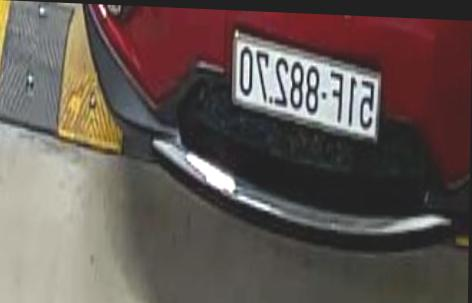License_Plate: (227, 40, 388, 134)
